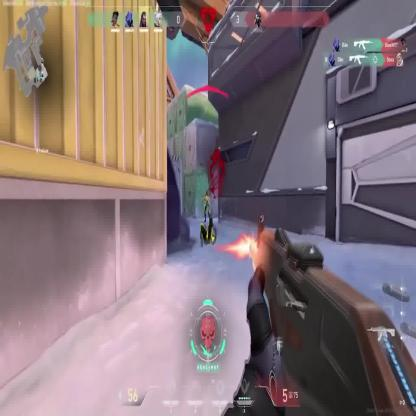enemy: (204, 191, 210, 222)
enemy_head: (206, 191, 209, 196)
